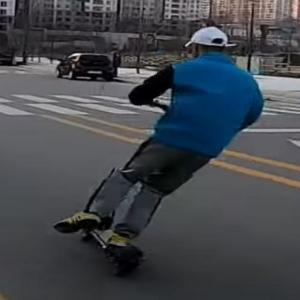with scooter: (51, 26, 264, 278)
without scooter: (110, 43, 122, 78)
